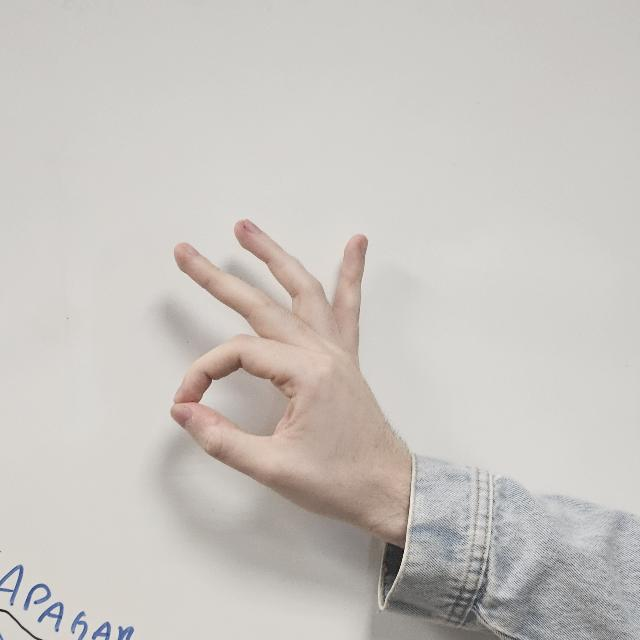Bolinha: (155, 202, 413, 544)
